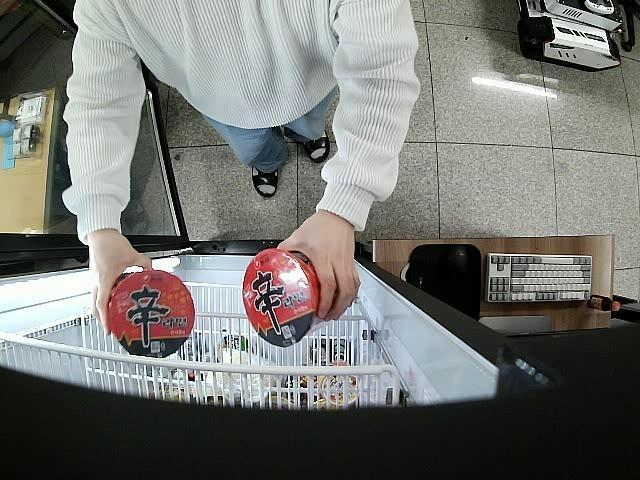01_ShinRamen_L: (104, 270, 196, 359), (241, 250, 320, 348)
